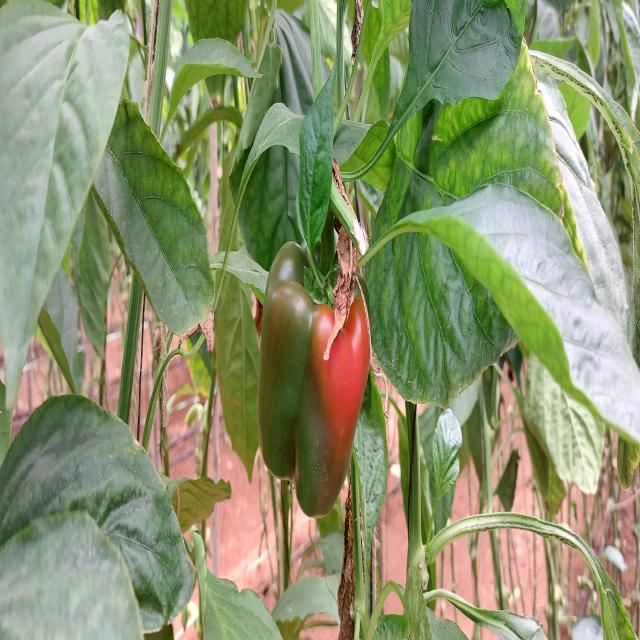BrownishRed--Can-be-Harvested: (262, 232, 370, 510)
